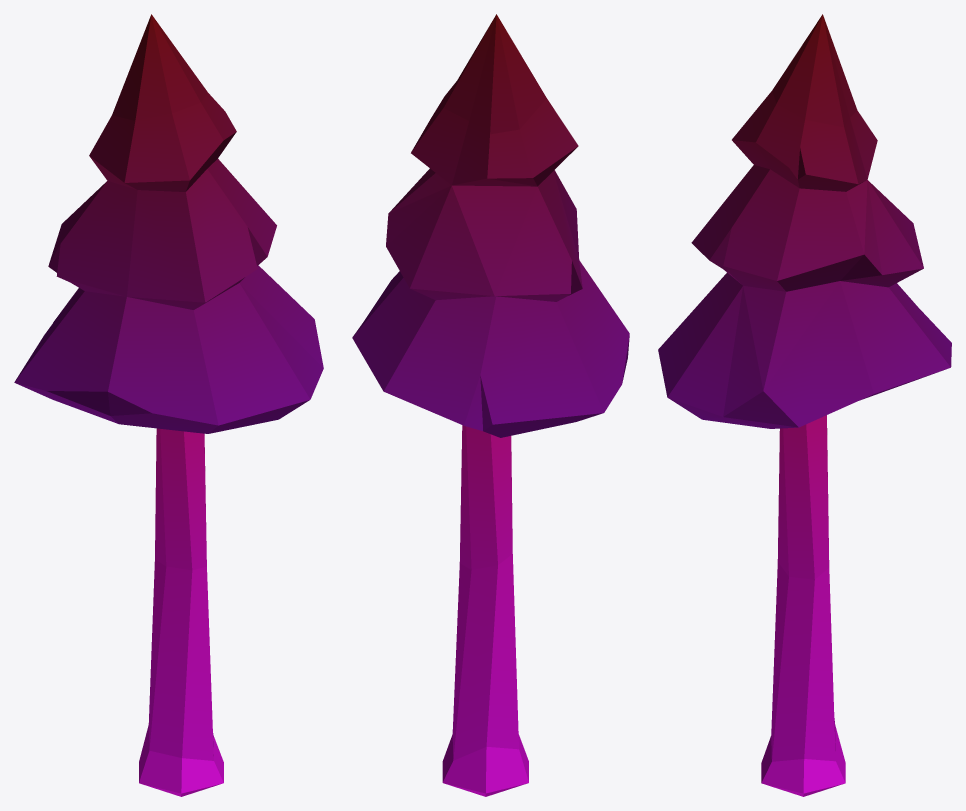
Rendered from synty-tree-polypine-03.gltf.
3 views of the same model, side by side, from view 1: azimuth 30°, elevation 25°; view 2: azimuth 150°, elevation 25°; view 3: azimuth 270°, elevation 25° (orthographic). The views are drawn at different scales.
Parts seen in each view (by area): view 1: SM_Tree_PolyPine_03; view 2: SM_Tree_PolyPine_03; view 3: SM_Tree_PolyPine_03.
Boxes of the visible parts, bbox=[...] form: SM_Tree_PolyPine_03: bbox=[14, 14, 323, 796]; SM_Tree_PolyPine_03: bbox=[352, 14, 629, 796]; SM_Tree_PolyPine_03: bbox=[658, 14, 951, 796].
Size of the model in its own units: 1.13 by 3.19 by 1.1.
